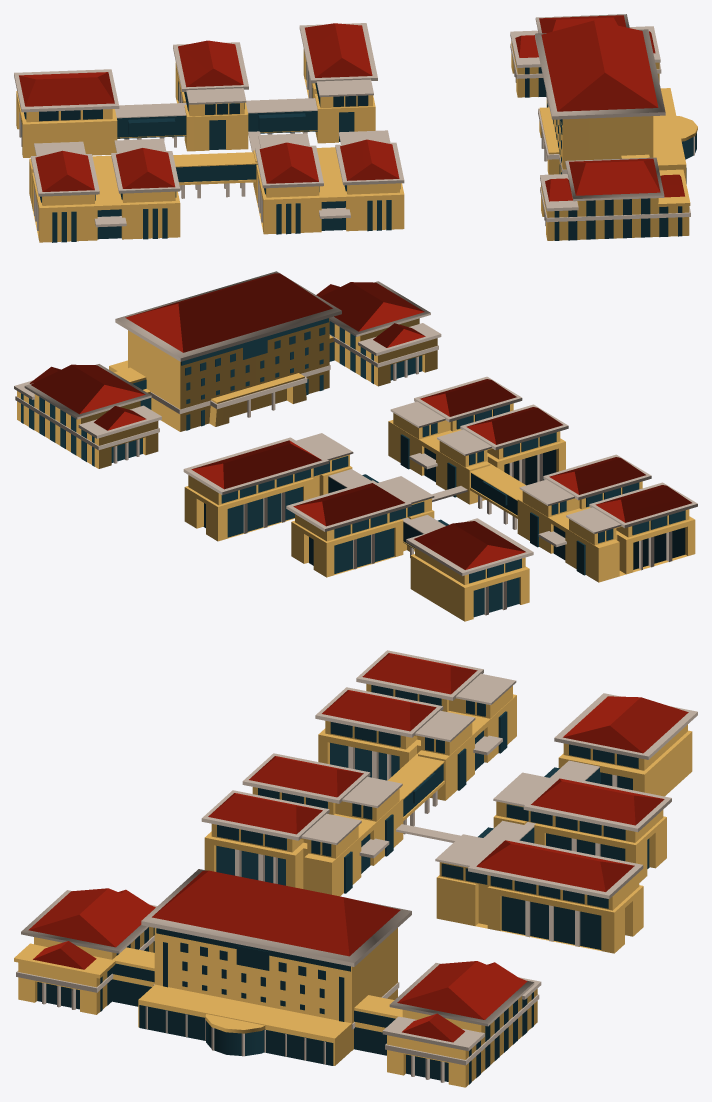
The model's file is XHD  S .FBX.
3 views of the same model, one above another, from view 1: azimuth 30°, elevation 25°; view 2: azimuth 150°, elevation 25°; view 3: azimuth 270°, elevation 25° (orthographic). The views are drawn at different scales.
Parts seen in each view (by area): view 1: XHD03, XHD02, XHD00, XHD01; view 2: XHD03, XHD02, XHD00, XHD01; view 3: XHD03, XHD02, XHD00, XHD01.
Part boxes in pixels (x1,y1,x2,y2): XHD03: [16, 41, 697, 242]; XHD02: [19, 15, 684, 201]; XHD00: [14, 14, 694, 230]; XHD01: [21, 62, 696, 242]; XHD03: [17, 318, 695, 621]; XHD02: [29, 273, 691, 569]; XHD00: [14, 271, 697, 615]; XHD01: [21, 318, 685, 617]; XHD03: [14, 684, 692, 1087]; XHD02: [28, 653, 688, 1042]; XHD00: [16, 650, 697, 1082]; XHD01: [37, 685, 649, 1084].
Size of the model in its own units: 1.09 by 0.1705 by 0.8335.
